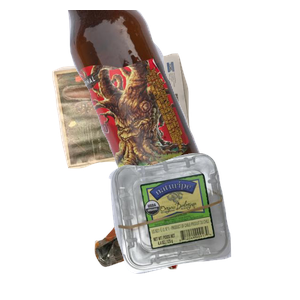glass: (65, 10, 300, 190)
paper: (49, 51, 235, 212)
plastic: (106, 151, 300, 300)
trash: (92, 174, 272, 300)
